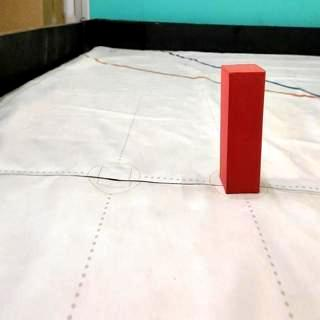redbox: (219, 64, 266, 196)
